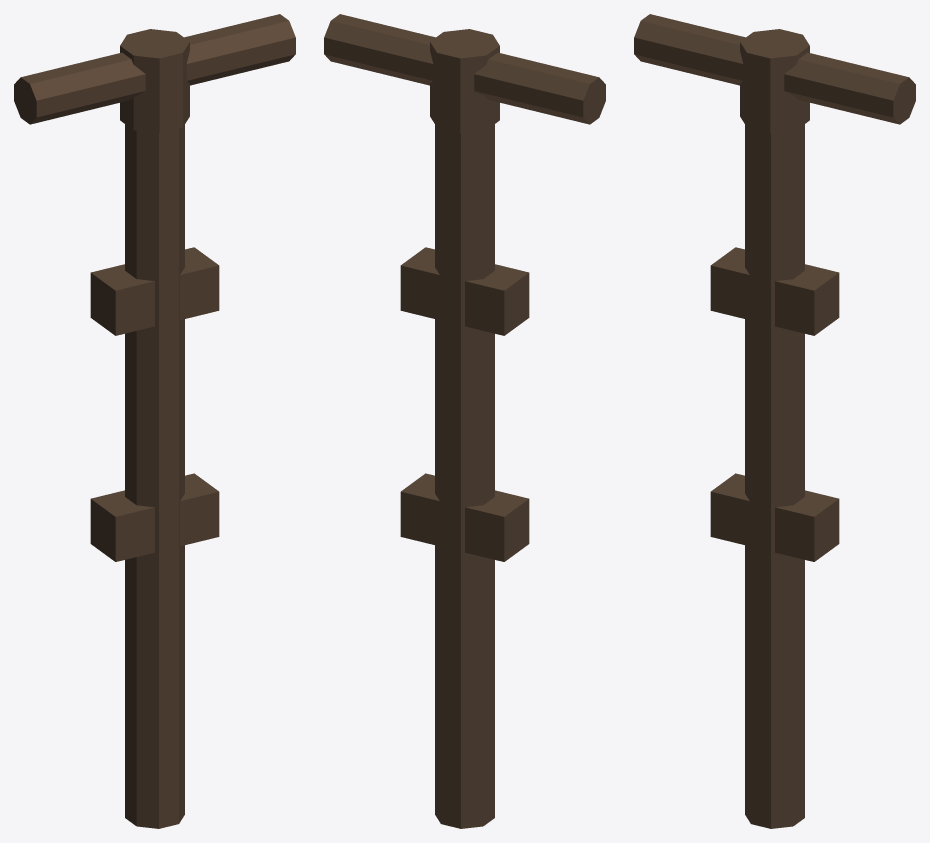
File: SM_Street_GuardPipe_Brown_Joint_01.gltf
3 views of the same model, side by side, from view 1: azimuth 30°, elevation 25°; view 2: azimuth 150°, elevation 25°; view 3: azimuth 330°, elevation 25° (orthographic).
Visible parts, largest first — view 1: SM_Street_GuardPipe_Brown_Joint_01; view 2: SM_Street_GuardPipe_Brown_Joint_01; view 3: SM_Street_GuardPipe_Brown_Joint_01.
Part boxes in pixels (left/top/right/bottom): SM_Street_GuardPipe_Brown_Joint_01: left=14, top=14, right=295, bottom=828; SM_Street_GuardPipe_Brown_Joint_01: left=324, top=14, right=605, bottom=828; SM_Street_GuardPipe_Brown_Joint_01: left=634, top=14, right=915, bottom=828.
Size of the model in its own units: 0.3 by 0.854 by 0.0652.
Materials: 1 (1 with a texture image).
